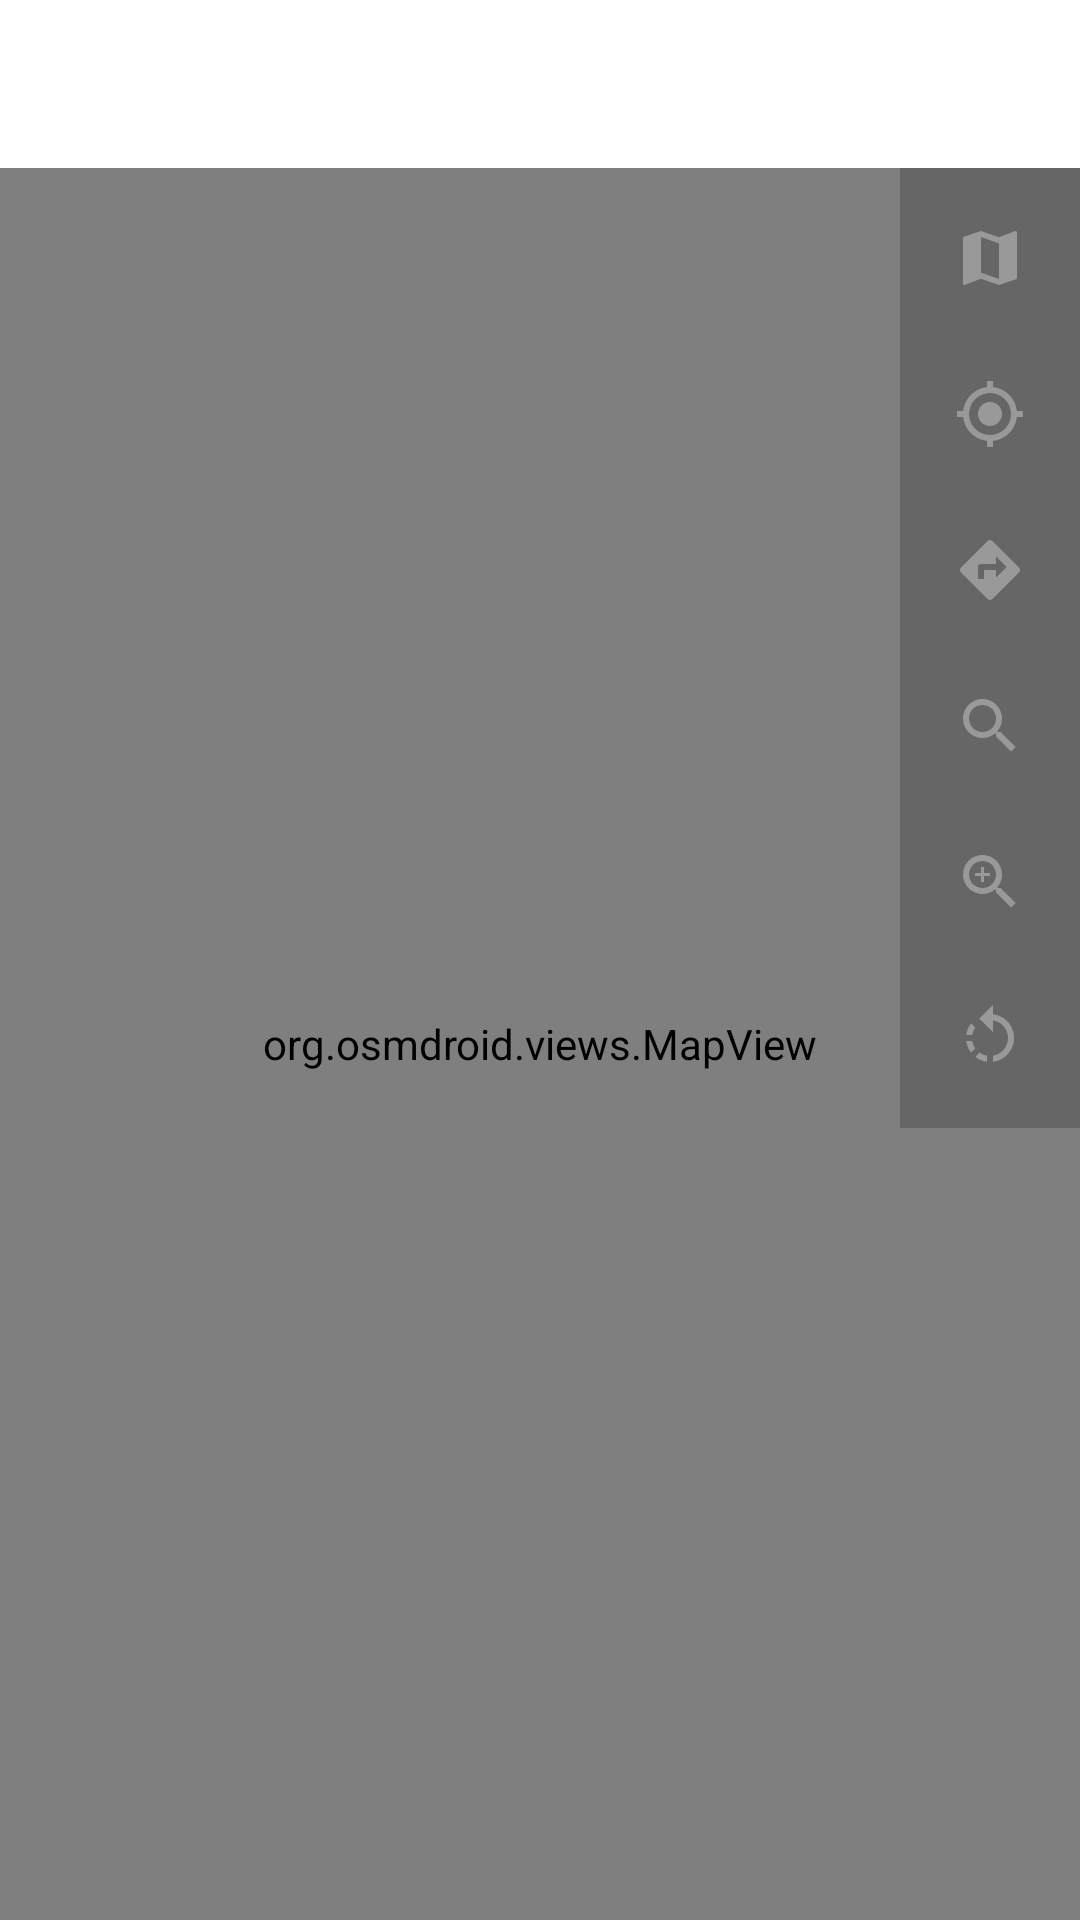

Locate icon controls on the screen. Image size 1080×1920, boxes as box(x1, y1, x2, y2).
Allow rotation: box(966, 1005, 1014, 1062)
Auto zoom: box(963, 855, 1015, 907)
Choose a map tile provider: box(963, 231, 1017, 285)
Show my position: box(957, 381, 1023, 447)
